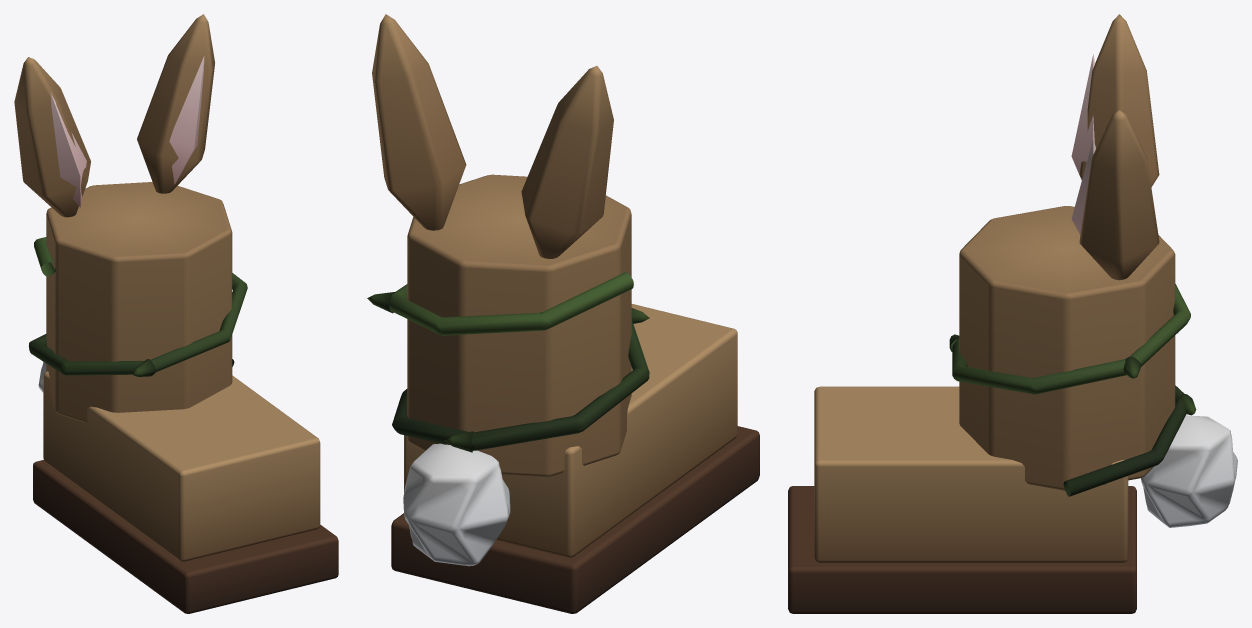
File: lg_briarleap_boots.glb
3 renders of one model, left to right at view 1: azimuth 30°, elevation 25°; view 2: azimuth 150°, elevation 25°; view 3: azimuth 270°, elevation 25°, orthographic. The views are drawn at different scales.
Visible parts, largest first — view 1: lg_briarleap_boots, lg_briarleap_boots_trim; view 2: lg_briarleap_boots; view 3: lg_briarleap_boots, lg_briarleap_boots_trim.
Part boxes in pixels (x1,y1,x2,y2): lg_briarleap_boots: (14, 14, 338, 613); lg_briarleap_boots_trim: (50, 56, 204, 207); lg_briarleap_boots: (367, 14, 759, 613); lg_briarleap_boots: (788, 14, 1237, 613); lg_briarleap_boots_trim: (1071, 54, 1095, 259).
Bounding box in the file's own units: 0.5796 × 1.29 × 1.03.
